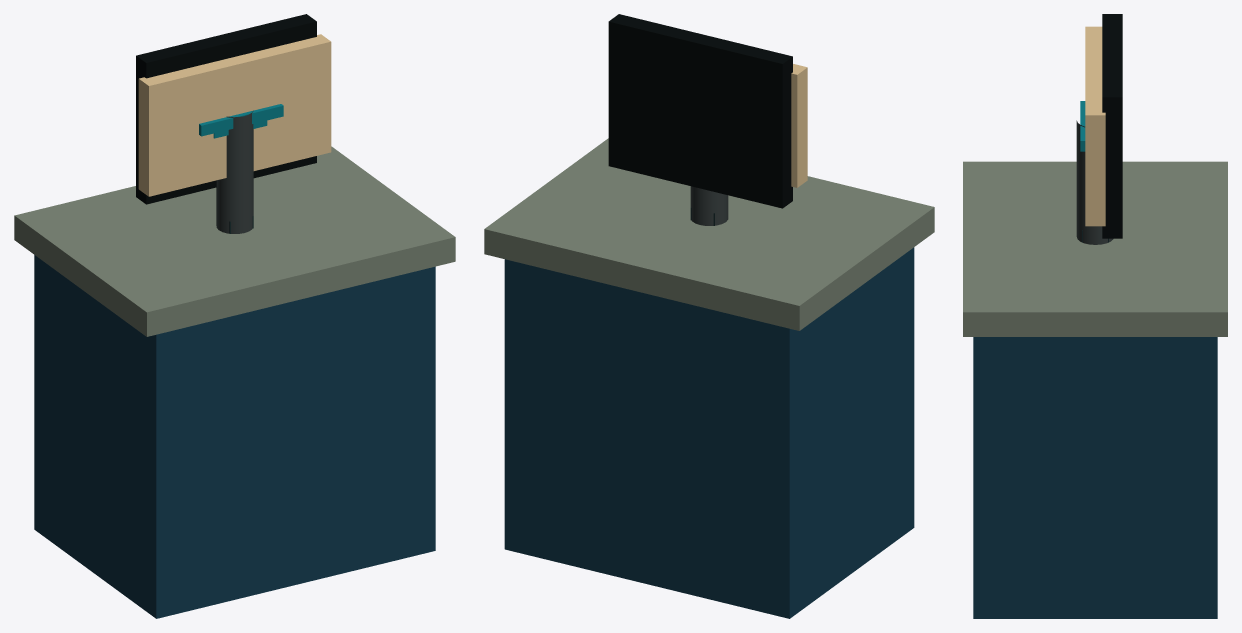
The model's file is interaction_props_kit.glb.
3 renders of one model, left to right at view 1: azimuth 30°, elevation 25°; view 2: azimuth 150°, elevation 25°; view 3: azimuth 270°, elevation 25°, orthographic. The views are drawn at different scales.
Parts seen in each view (by area): view 1: 扫码台底座, 扫码台台面, 交付标识牌, 扫码屏, 标识柱, 交付灯带; view 2: 扫码台底座, 扫码台台面, 扫码屏, 交付标识牌, 标识柱; view 3: 扫码台底座, 扫码台台面, 扫码屏, 交付标识牌, 标识柱.
Part boxes in pixels (<box>): 扫码台底座: <box>34,255,435,618</box>; 扫码台台面: <box>14,146,455,336</box>; 交付标识牌: <box>138,34,331,196</box>; 扫码屏: <box>136,14,316,204</box>; 标识柱: <box>216,110,253,233</box>; 交付灯带: <box>199,104,283,136</box>; 扫码台底座: <box>504,247,914,618</box>; 扫码台台面: <box>484,138,934,330</box>; 扫码屏: <box>608,14,792,208</box>; 交付标识牌: <box>791,64,807,187</box>; 标识柱: <box>690,186,728,225</box>; 扫码台底座: <box>973,337,1217,618</box>; 扫码台台面: <box>963,161,1227,336</box>; 扫码屏: <box>1102,14,1122,238</box>; 交付标识牌: <box>1085,26,1105,226</box>; 标识柱: <box>1076,120,1113,244</box>.
Size of the model in its own units: 1.05 by 1.61 by 0.78.
Materials: 1 (1 with a texture image).
